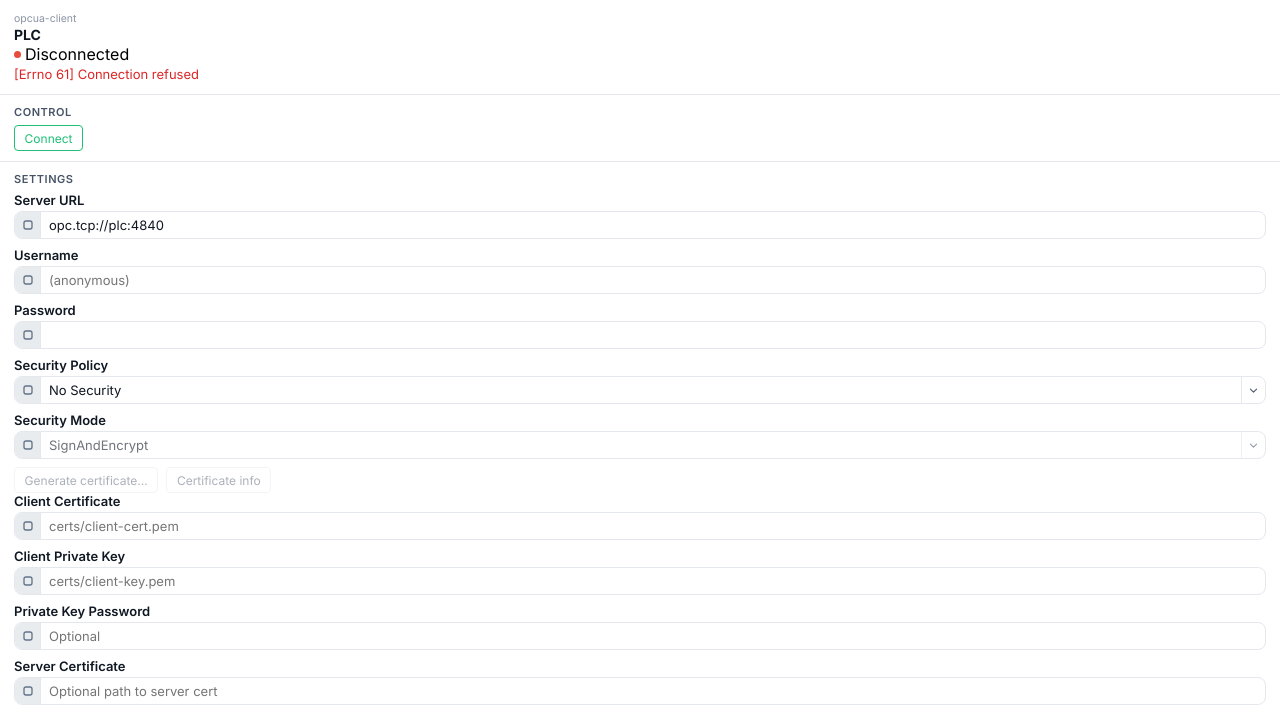
Test: DatasourcePropertiesPanel › ConnectionButtons › hides a stale connection error immediately on click, even if the refreshed status still carries an error
Expected: the message reads "[Errno 61] Connection refused", [14,66,199,82]
Click the button "Connect" at (49, 138), box [14,125,83,151]
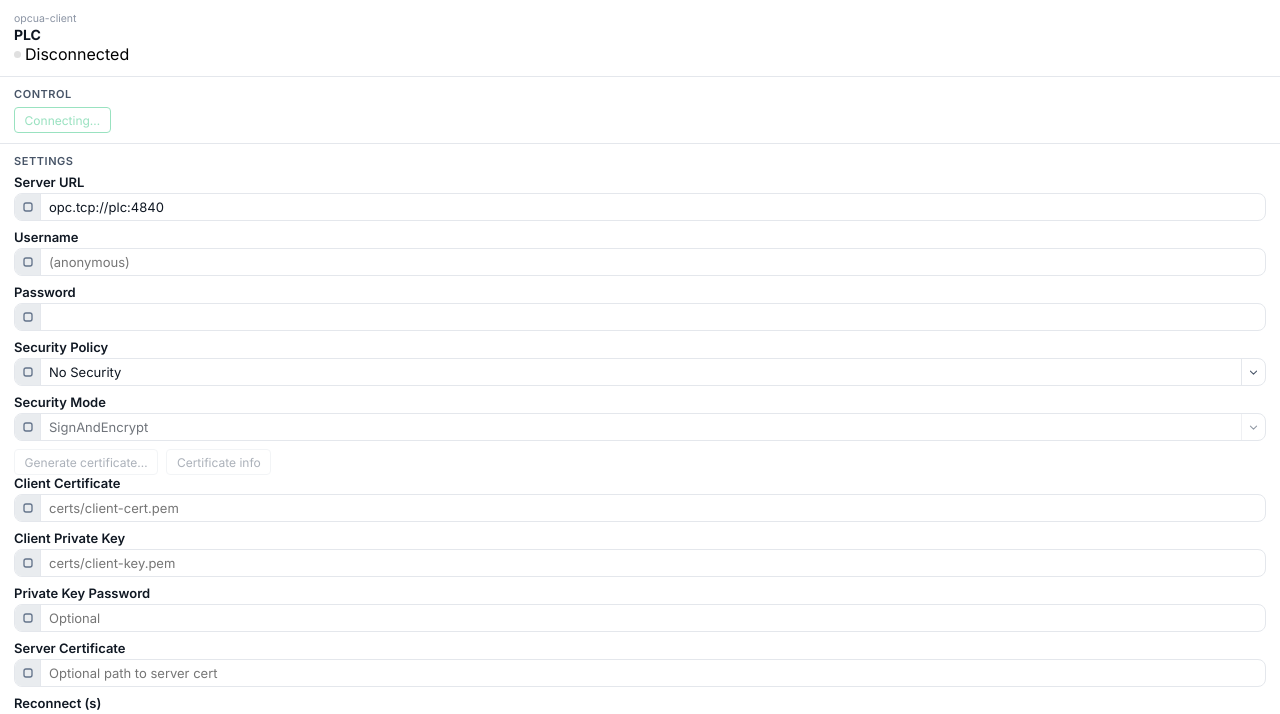
Expected: the message "[Errno 61] Connection refused" is gone
